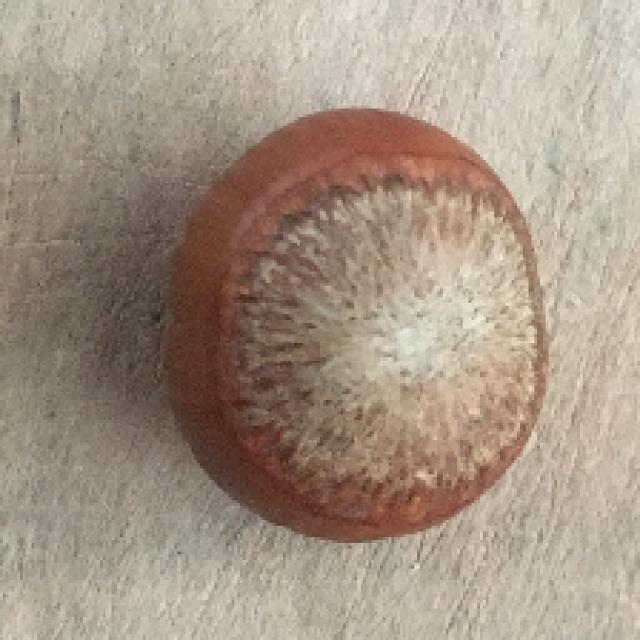qualityHazelnut: (160, 105, 557, 543)
